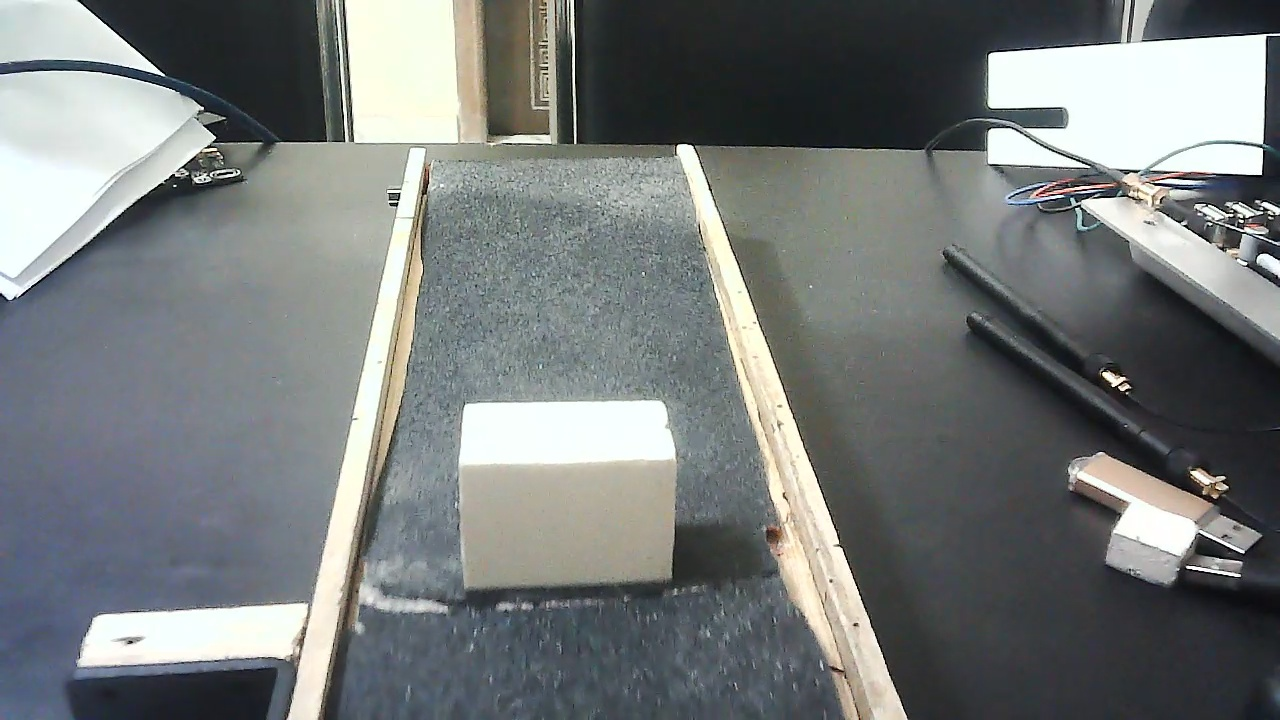BIG: (458, 384, 676, 602)
